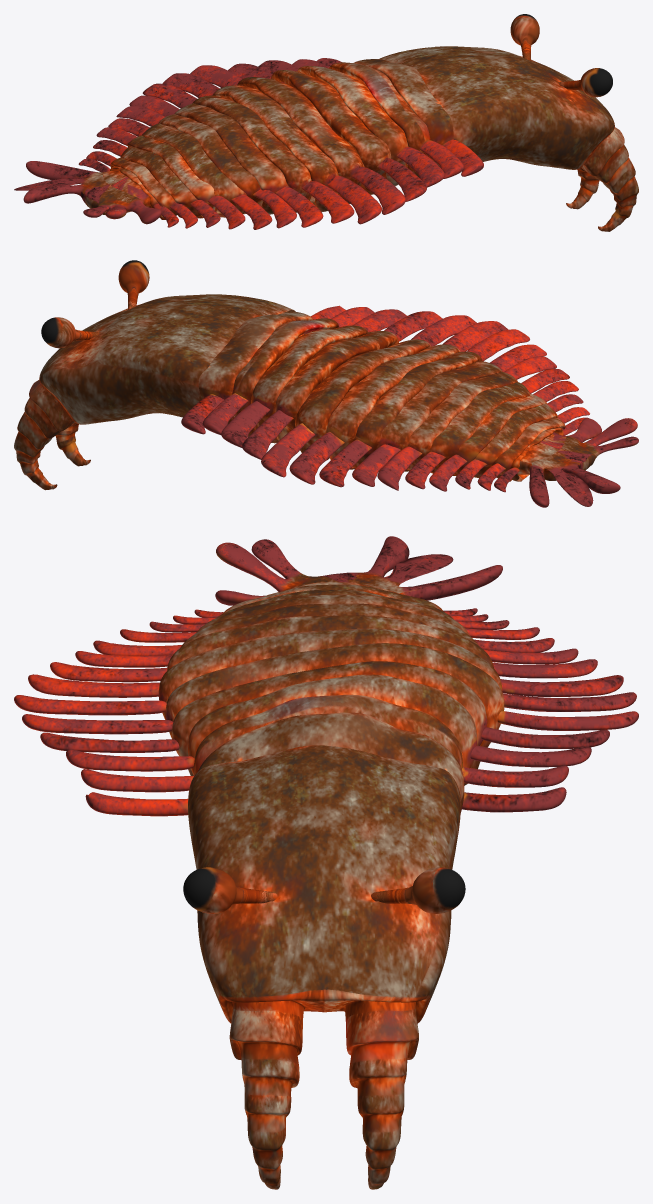
Rendered from anomalocaris.glb.
3 renders of one model, top to bottom at view 1: azimuth 30°, elevation 25°; view 2: azimuth 150°, elevation 25°; view 3: azimuth 270°, elevation 25°, orthographic. The views are drawn at different scales.
Parts seen in each view (by area): view 1: Plane.003_Material_0; view 2: Plane.003_Material_0; view 3: Plane.003_Material_0.
Boxes of the visible parts, bbox=[...] form: Plane.003_Material_0: bbox=[14, 14, 638, 231]; Plane.003_Material_0: bbox=[14, 260, 638, 507]; Plane.003_Material_0: bbox=[14, 536, 638, 1189].
Size of the model in its own units: 1.27 by 0.4199 by 0.7464.
Materials: 1 (1 with a texture image).
